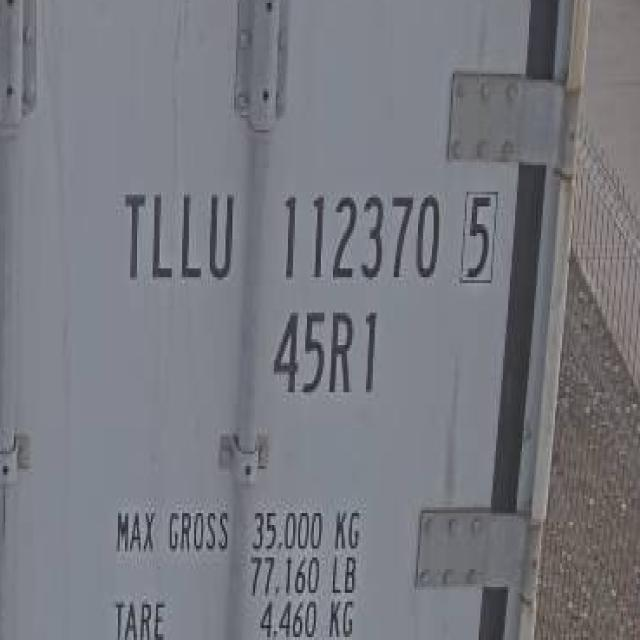dv: (456, 182, 499, 292)
owner: (116, 175, 242, 290)
serial: (276, 177, 444, 287)
size: (272, 300, 383, 402)
